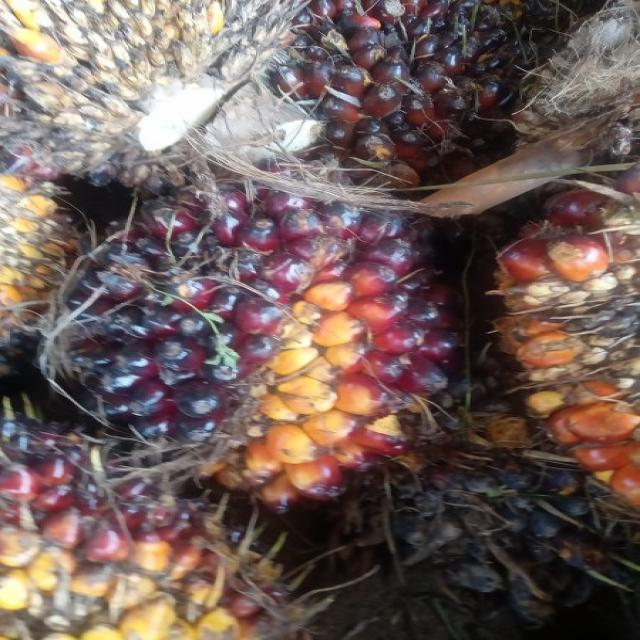fraksi 1: (19, 130, 428, 506)
